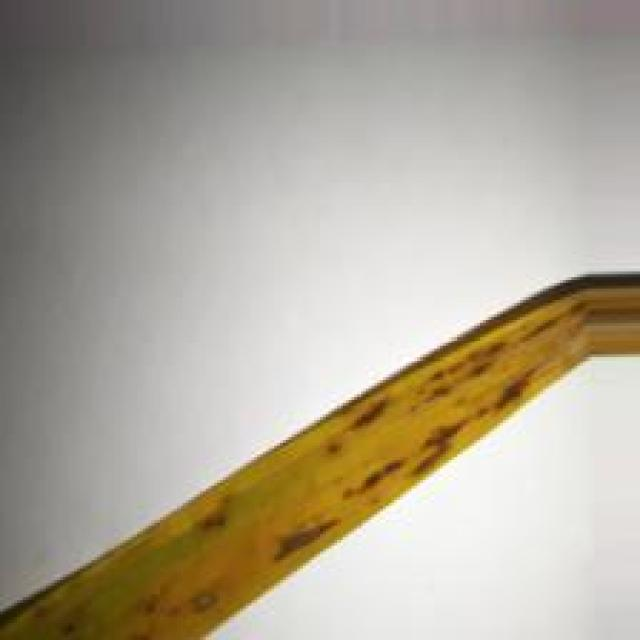Narrow_Brown_Leaf_Spot: (2, 287, 590, 640)
